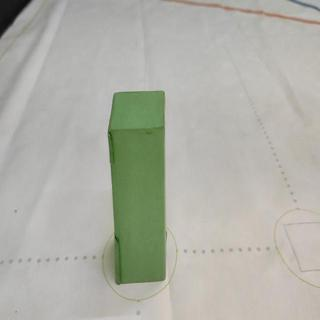greenbox: (106, 87, 172, 285)
